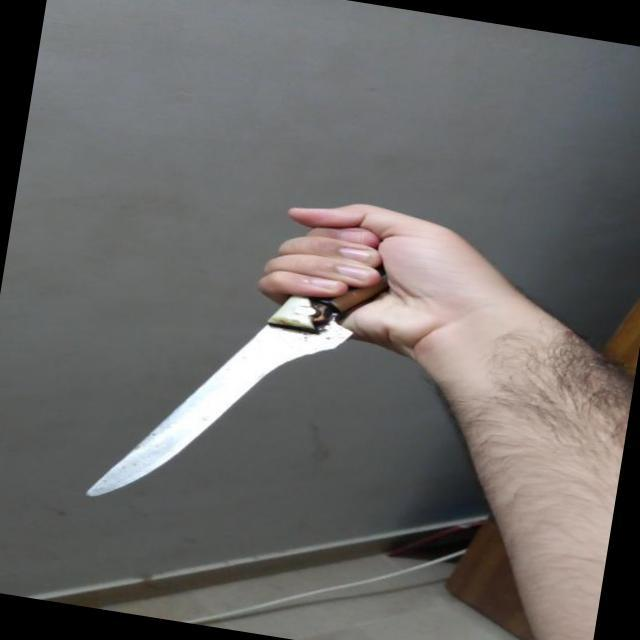Knife: (73, 178, 424, 549)
